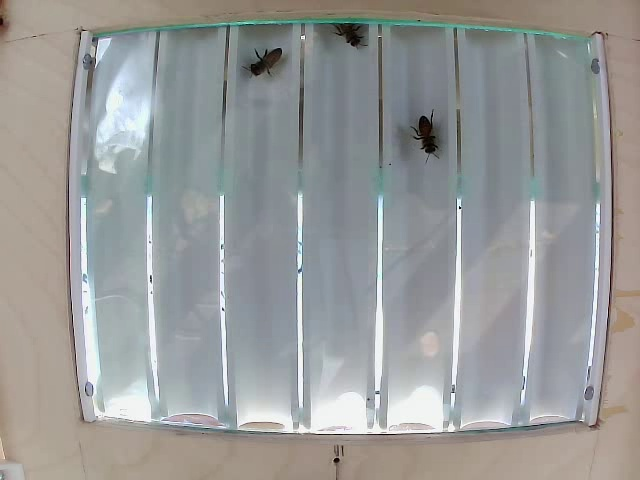bee: (405, 108, 450, 154), (238, 47, 283, 90), (328, 13, 364, 55)
